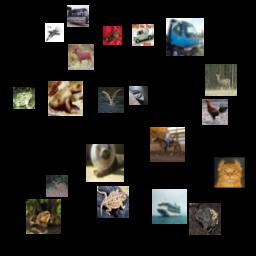airplane: (45, 23, 64, 42)
automobile: (132, 24, 154, 46)
bird: (202, 99, 228, 125), (98, 87, 124, 113)
cat: (86, 144, 124, 182), (212, 155, 247, 190), (103, 26, 122, 45)
deer: (205, 64, 237, 96), (68, 44, 94, 70), (46, 175, 68, 197)
frog: (26, 199, 61, 234), (48, 81, 83, 116), (97, 186, 129, 218), (189, 203, 221, 235), (13, 87, 35, 109)
ship: (152, 189, 187, 224), (67, 5, 89, 27), (129, 86, 148, 105)
truck: (166, 18, 204, 56)
